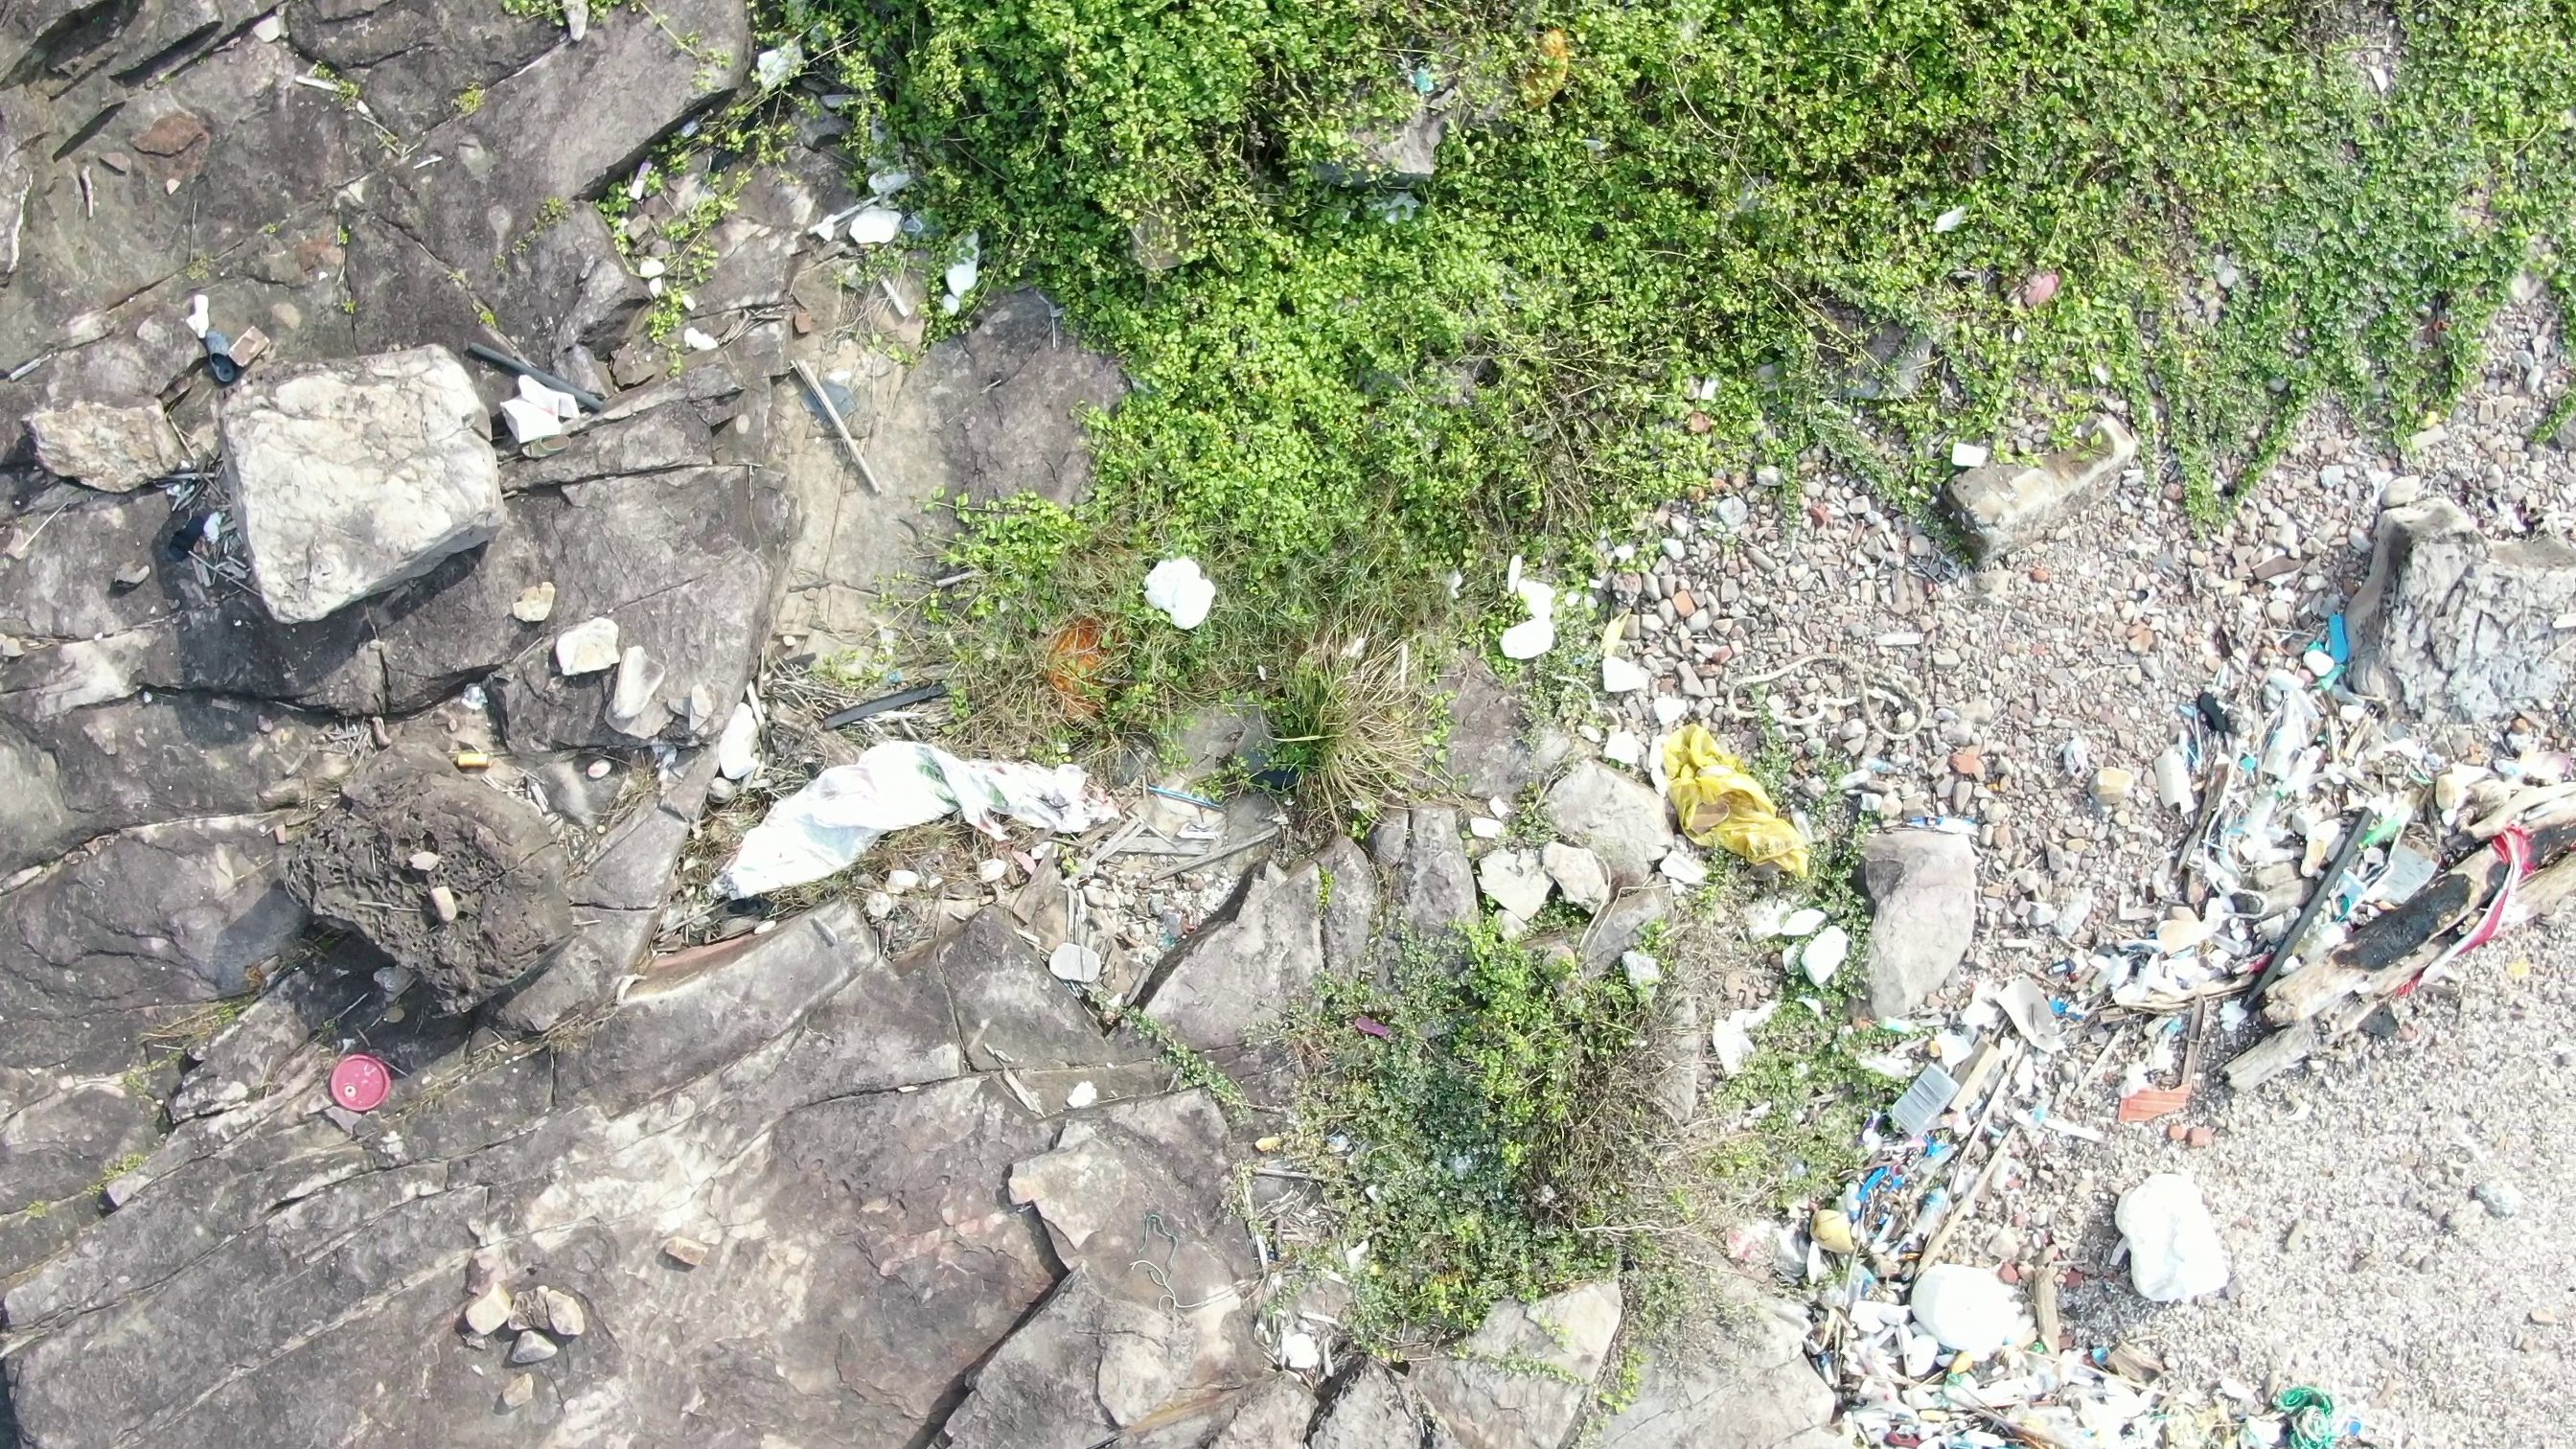garbage: (699, 653, 1127, 911), (2235, 798, 2551, 1049), (1658, 708, 1813, 892), (1849, 1047, 1982, 1228), (451, 327, 616, 448), (1134, 550, 1233, 642), (2268, 1373, 2371, 1449), (2298, 609, 2376, 708), (180, 317, 253, 398), (324, 1049, 400, 1116)
